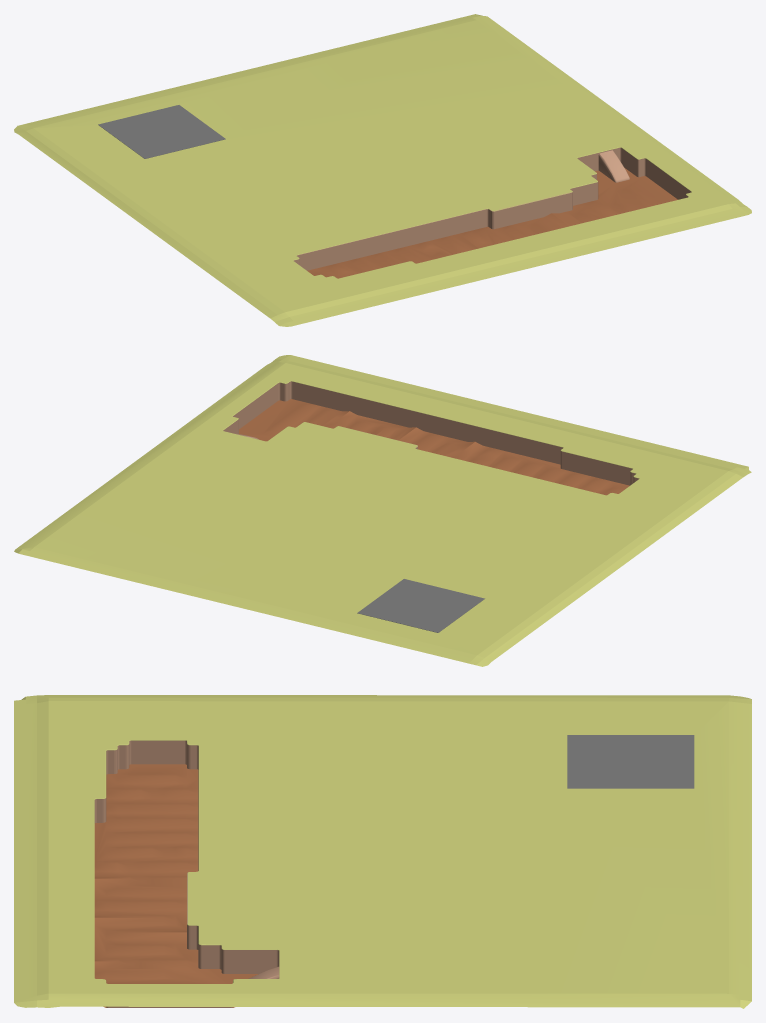
File: TERRONO .fbx
The picture shows the model from 3 angles, top to bottom: view 1: azimuth 30°, elevation 25°; view 2: azimuth 150°, elevation 25°; view 3: azimuth 270°, elevation 25°; orthographic projection. The views are drawn at different scales.
Visible parts, largest first — view 1: Plane.003; view 2: Plane.003; view 3: Plane.003.
Part boxes in pixels (x1=…): Plane.003: x1=14, y1=14, x2=751, y2=326; Plane.003: x1=14, y1=355, x2=751, y2=666; Plane.003: x1=14, y1=695, x2=751, y2=1008.
Bounding box in the file's own units: 11000 × 415 × 11000.
